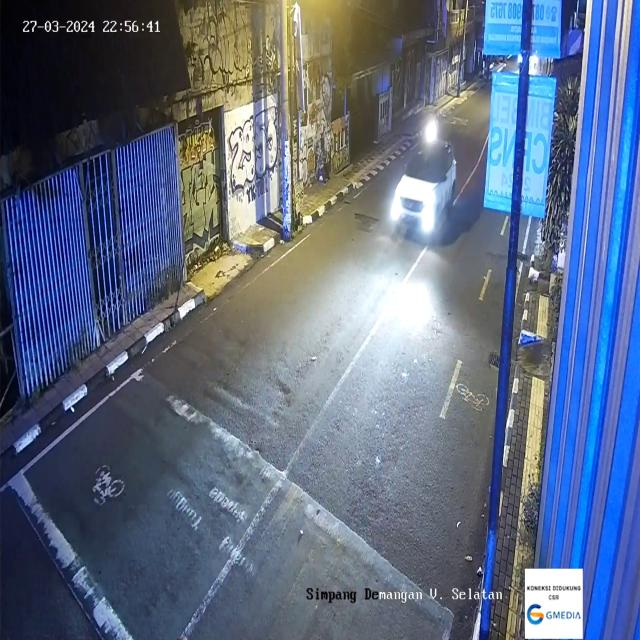car: (387, 137, 457, 236)
